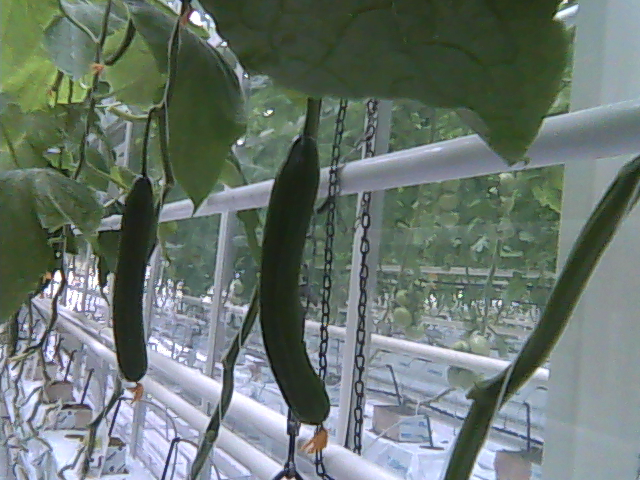concombre: (256, 128, 336, 458), (109, 167, 159, 405)
